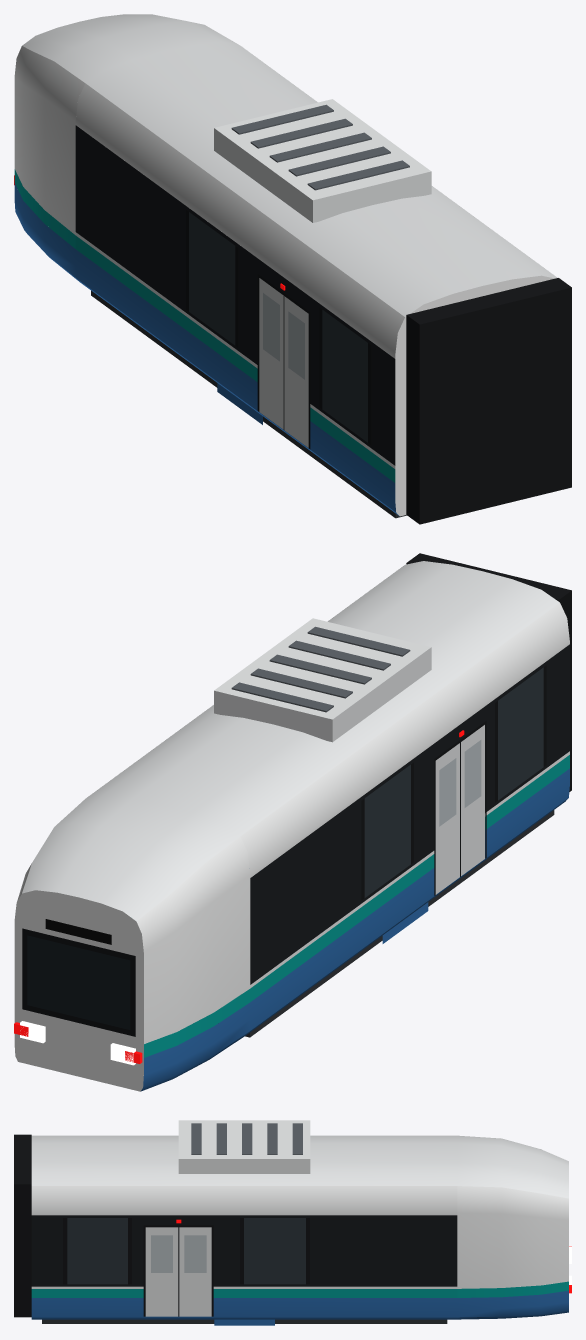
The model's file is kaohsiung-lrt-lead.glb.
3 renders of one model, top to bottom at view 1: azimuth 30°, elevation 25°; view 2: azimuth 150°, elevation 25°; view 3: azimuth 270°, elevation 25°, orthographic. The views are drawn at different scales.
Parts seen in each view (by area): view 1: KaohsiungLRT_Lead; view 2: KaohsiungLRT_Lead, DestLED; view 3: KaohsiungLRT_Lead.
Boxes of the visible parts, box(x1,y1,x2,y2) form: KaohsiungLRT_Lead: box(14, 14, 571, 524); KaohsiungLRT_Lead: box(14, 553, 571, 1091); DestLED: box(45, 919, 111, 944); KaohsiungLRT_Lead: box(14, 1120, 571, 1325).
Bounding box in the file's own units: 2.73 × 3.6 × 11.01.
